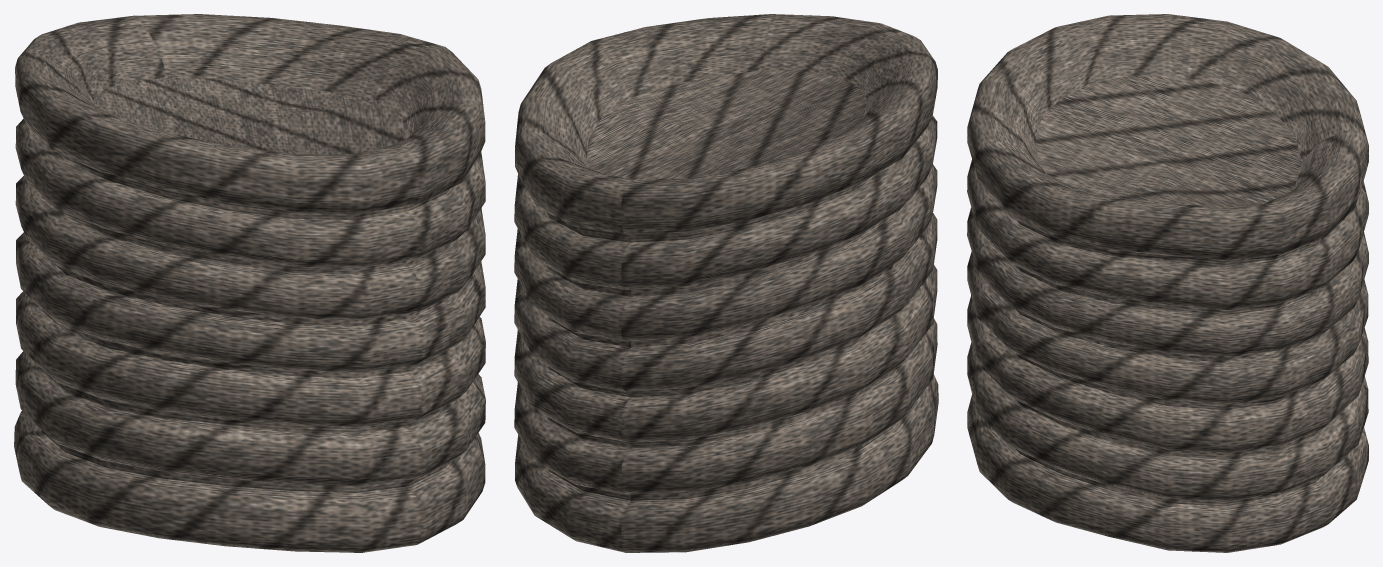
File: SM_Rope_Sleeve.fbx
3 views of the same model, side by side, from view 1: azimuth 30°, elevation 25°; view 2: azimuth 150°, elevation 25°; view 3: azimuth 270°, elevation 25° (orthographic). The views are drawn at different scales.
Visible parts, largest first — view 1: SM_Rope_Sleeve_LOD0; view 2: SM_Rope_Sleeve_LOD0; view 3: SM_Rope_Sleeve_LOD0.
Part boxes in pixels (x1,y1,x2,y2): SM_Rope_Sleeve_LOD0: (14,14,485,552); SM_Rope_Sleeve_LOD0: (514,14,938,552); SM_Rope_Sleeve_LOD0: (967,14,1368,552).
Bounding box in the file's own units: 35.73 × 36.23 × 38.79.
